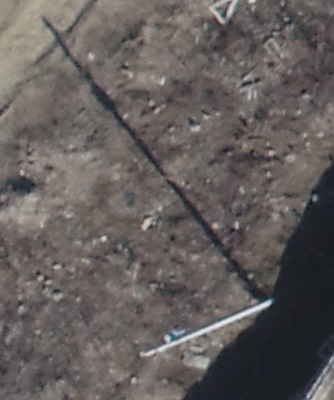opora: (134, 260, 276, 362)
